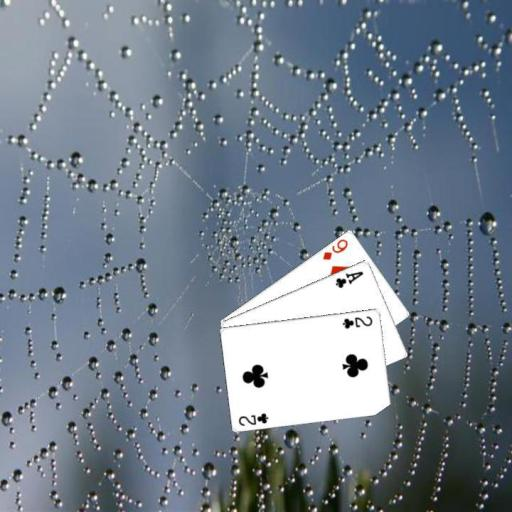2C: (236, 410, 271, 428), (340, 312, 374, 330)
9D: (319, 235, 350, 261)
AC: (332, 268, 365, 290)
